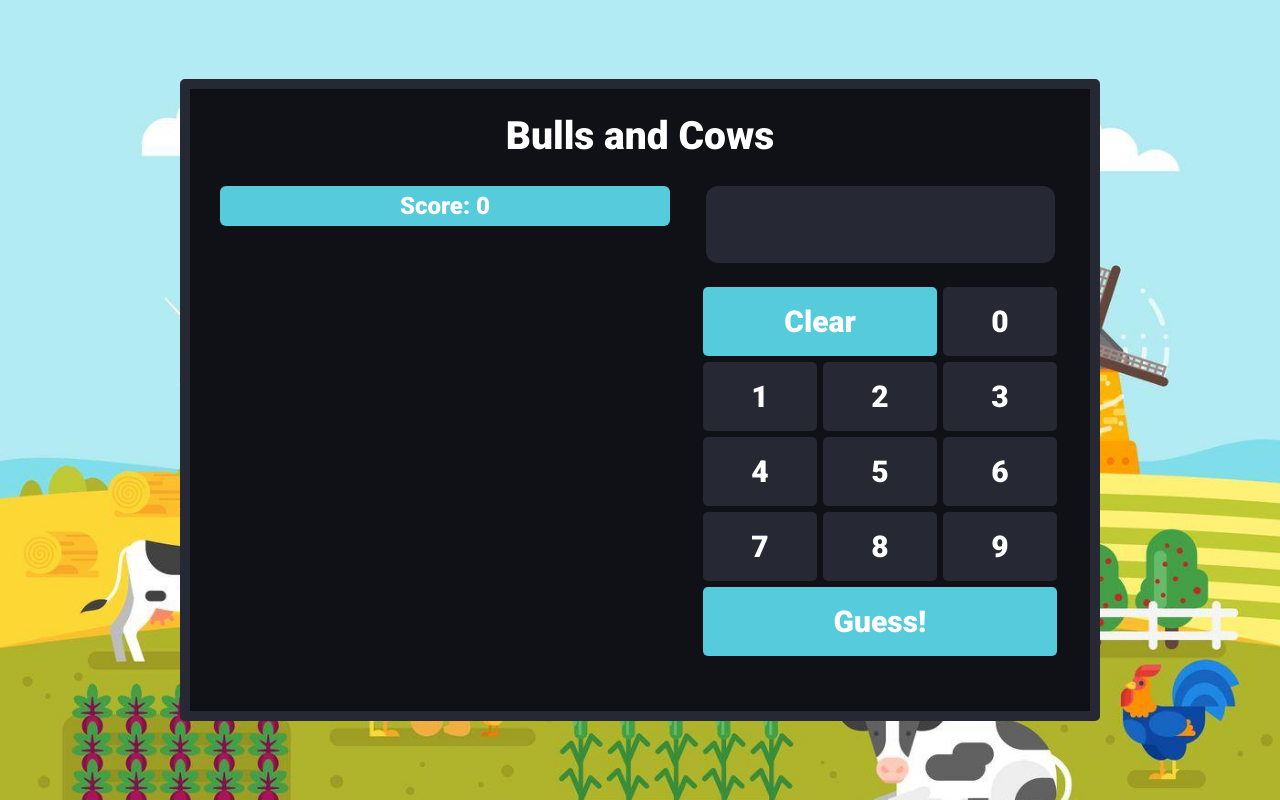
Test: For guess and clear buttons › Clicking clear will clear the inputted numbers
Click the button "1" at (760, 396), box [703,362,817,431]
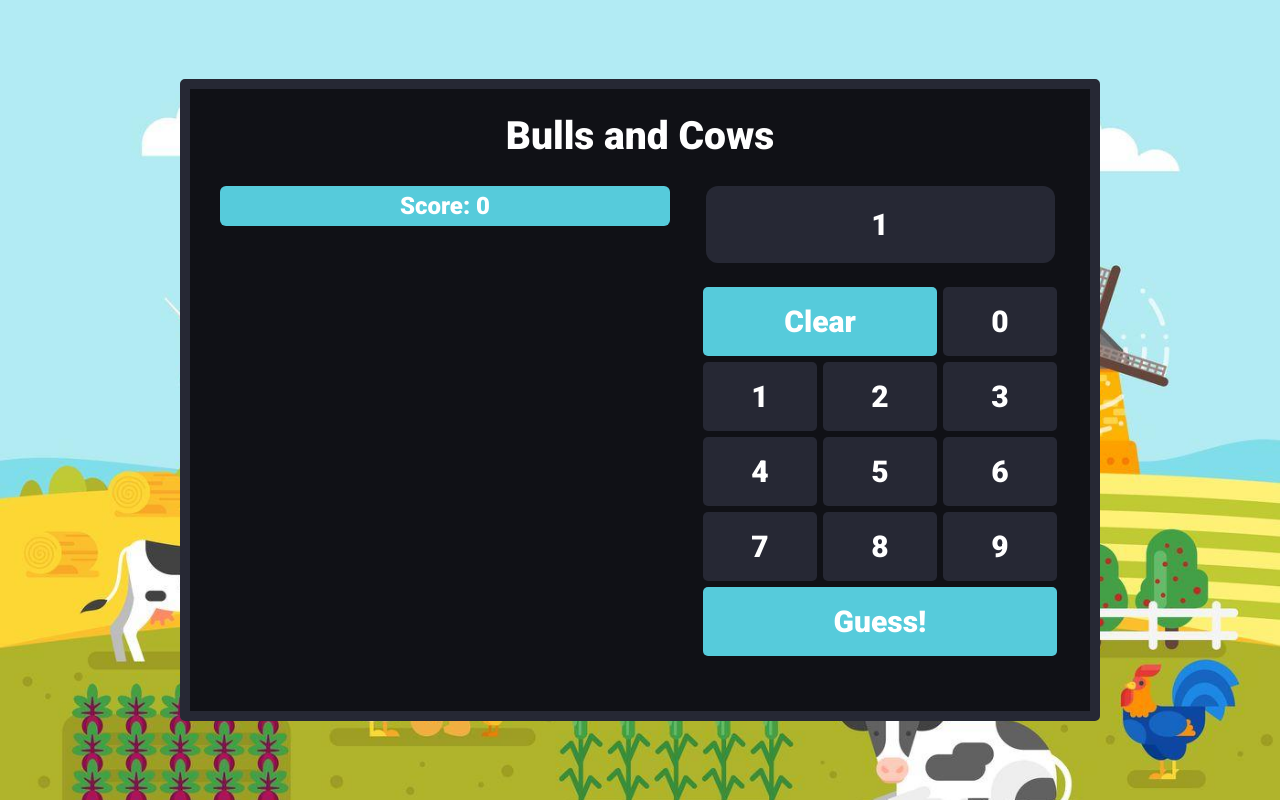
Click the button "2" at (880, 396), box [823,362,937,431]
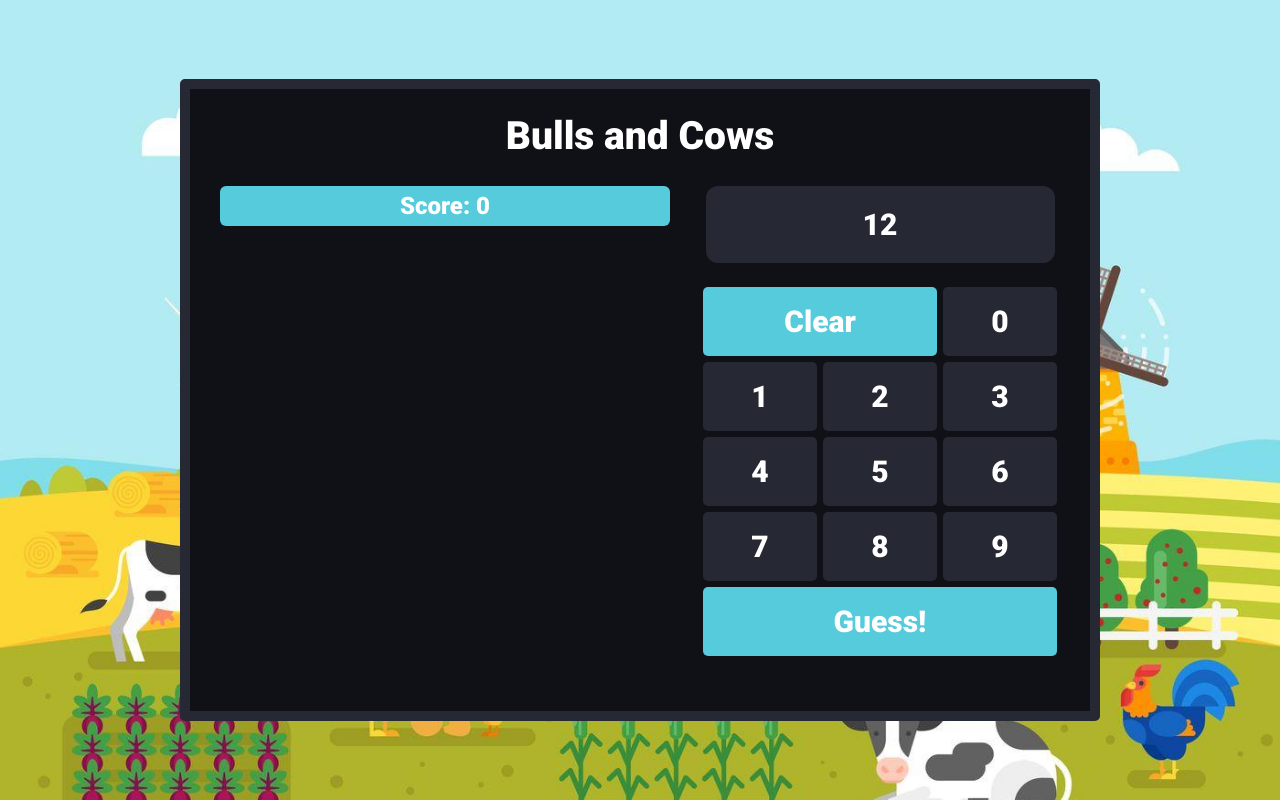
Click the button "3" at (1000, 396), box [943,362,1057,431]
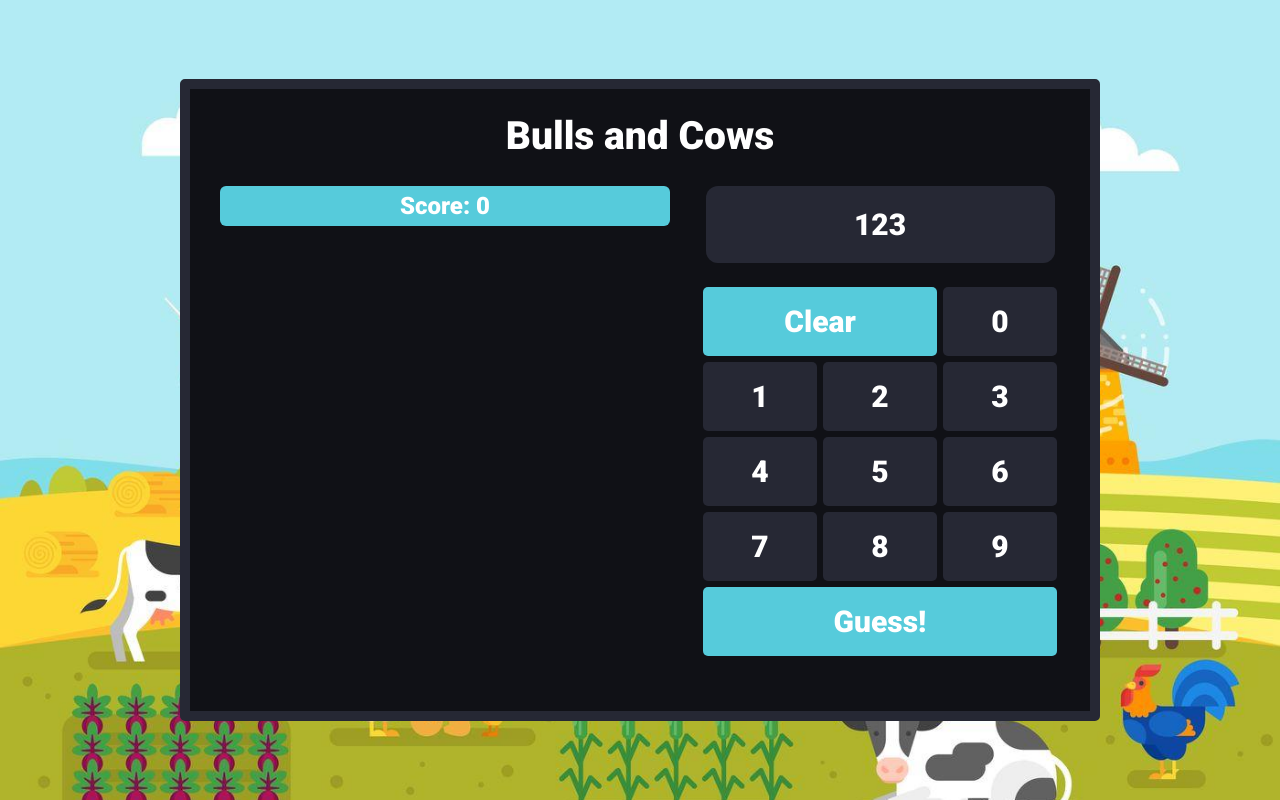
Click the button "4" at (760, 472), box [703,437,817,506]
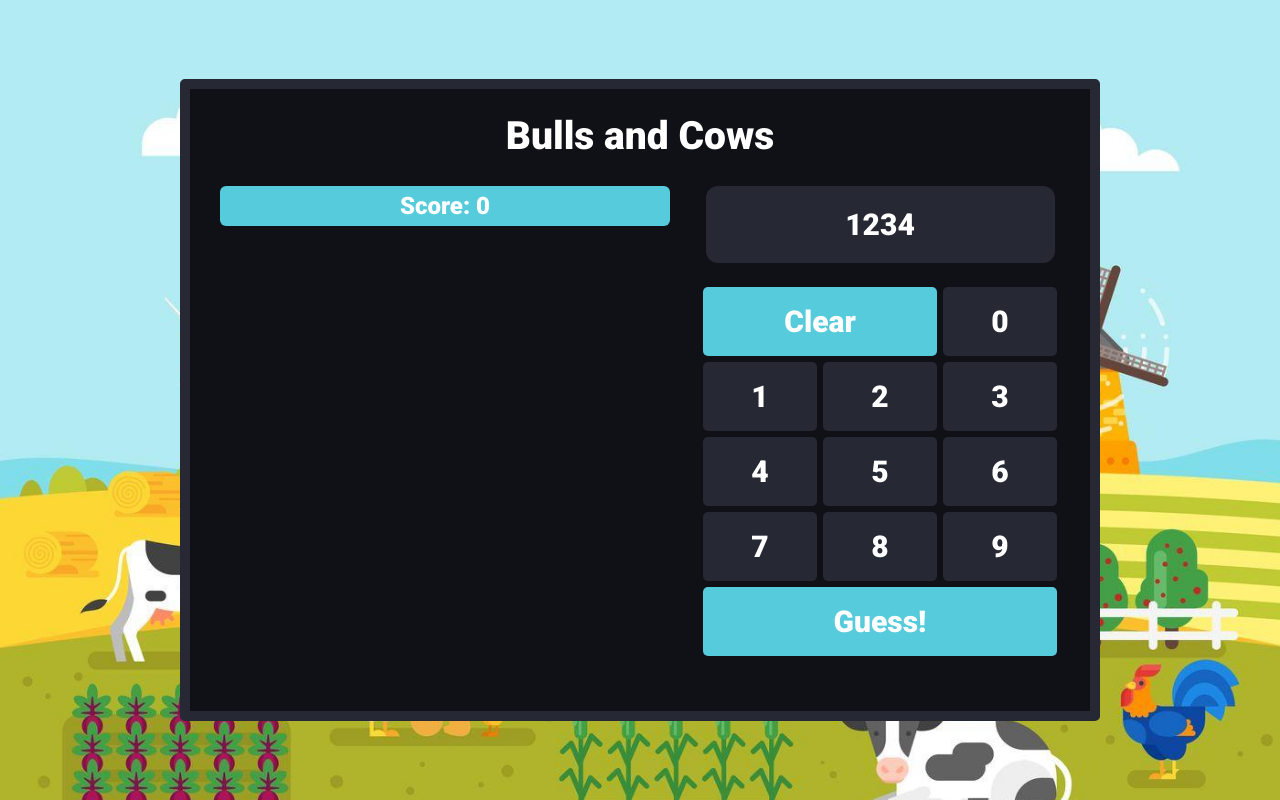
Click the button "Clear" at (820, 322), box [703,287,937,356]
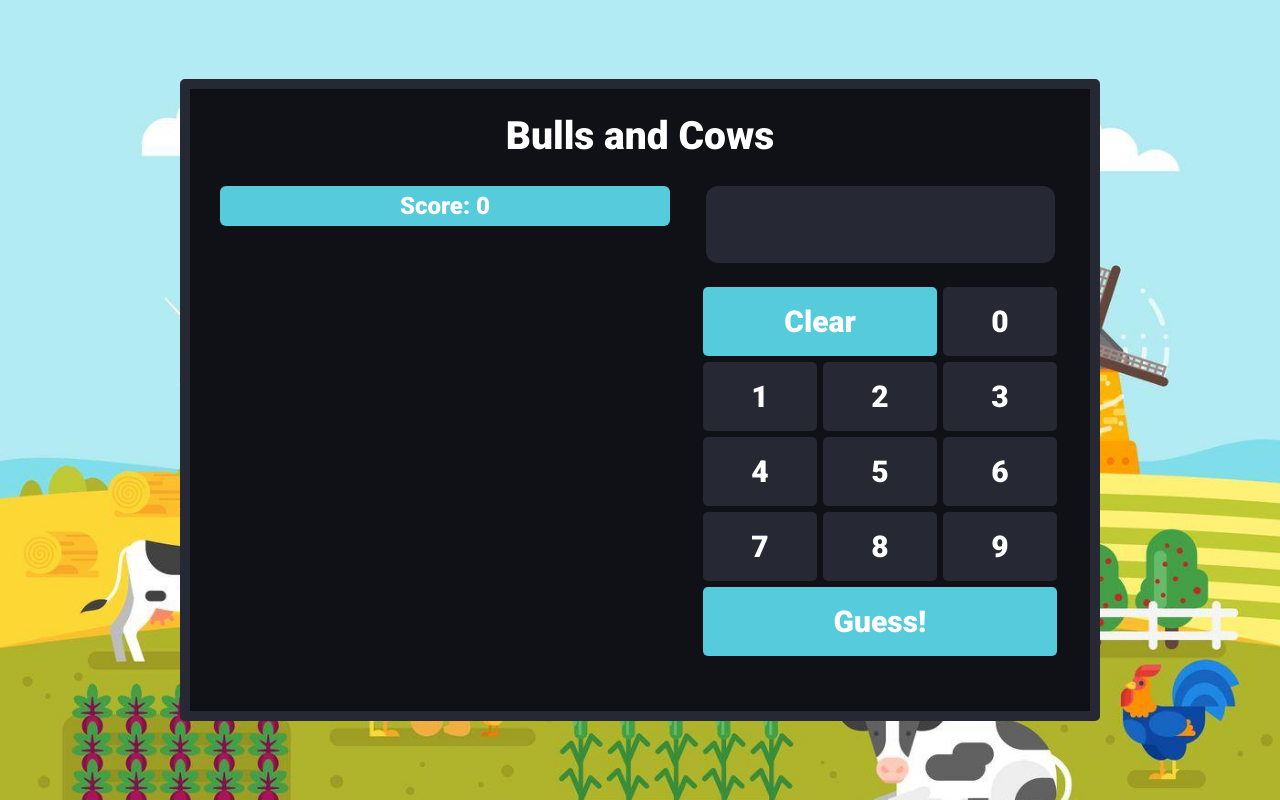
expect the field does not hold "1234": met, box [706,186,1054,263]
